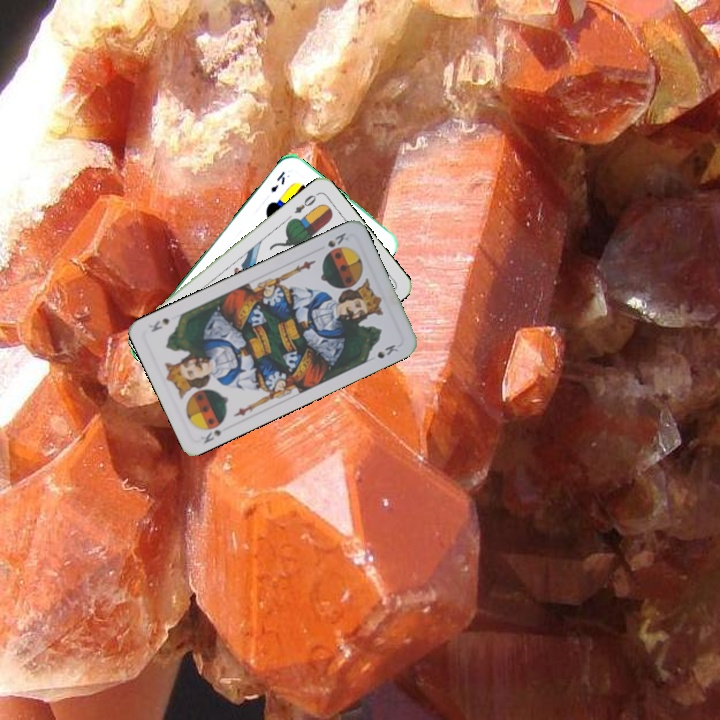EK: (267, 168, 288, 195)
EO: (290, 189, 321, 216)
SK: (323, 228, 351, 250), (196, 425, 224, 446)
